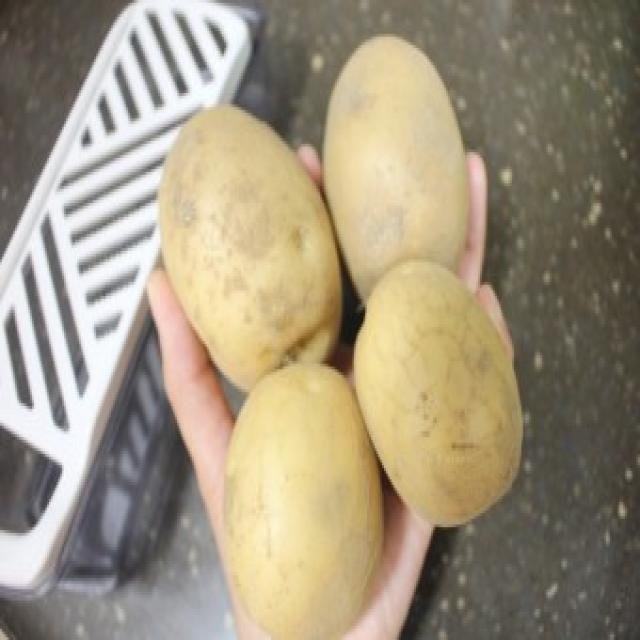Potato: (153, 98, 351, 394), (320, 30, 488, 328), (217, 351, 389, 640), (351, 251, 524, 529)
